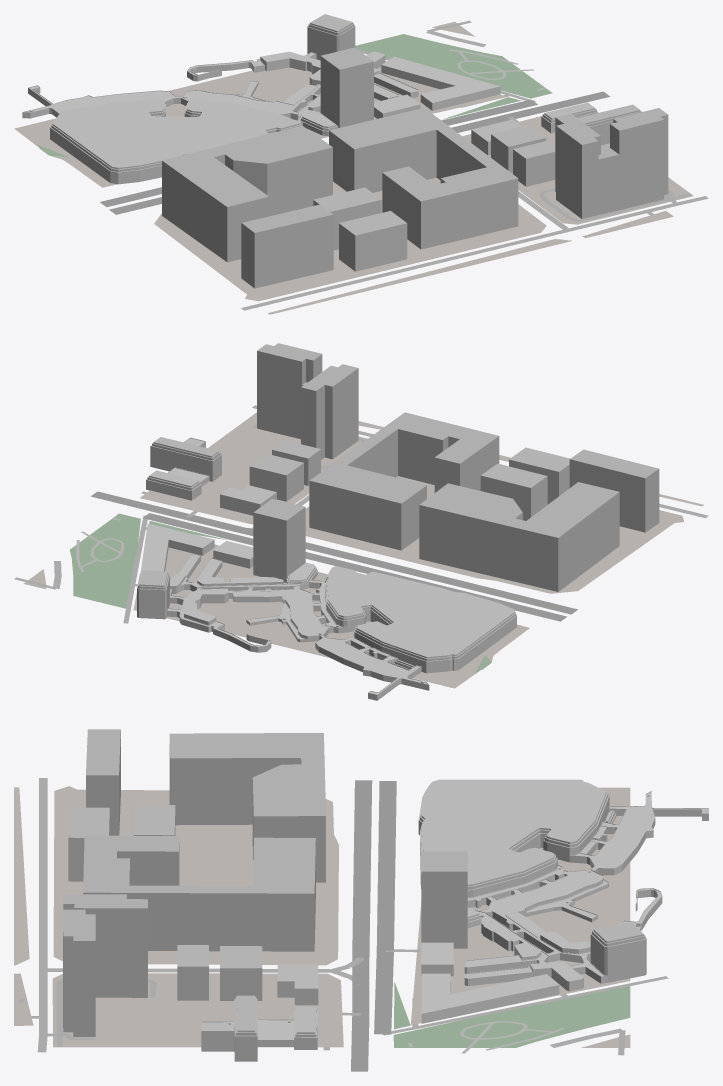
3 renders of one model, top to bottom at view 1: azimuth 30°, elevation 25°; view 2: azimuth 150°, elevation 25°; view 3: azimuth 270°, elevation 25°, orthographic. The views are drawn at different scales.
Bounding box in the file's own units: 560 × 86.69 × 564.
